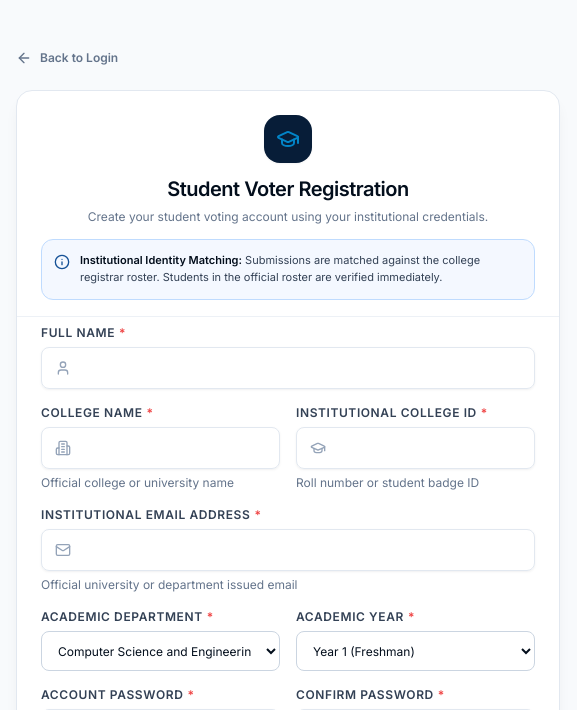
Scenario: Student Self-Service Registration Workflows › safely handles unexpected HTML or server error without rendering raw HTML
Type "Rohan Sharma" into the field labelled "Full Name*" at (288, 368), box [41,347,535,389]
Type "GMR Institute of Technology" into the field labelled "College Name*" at (160, 448), box [41,427,280,469]
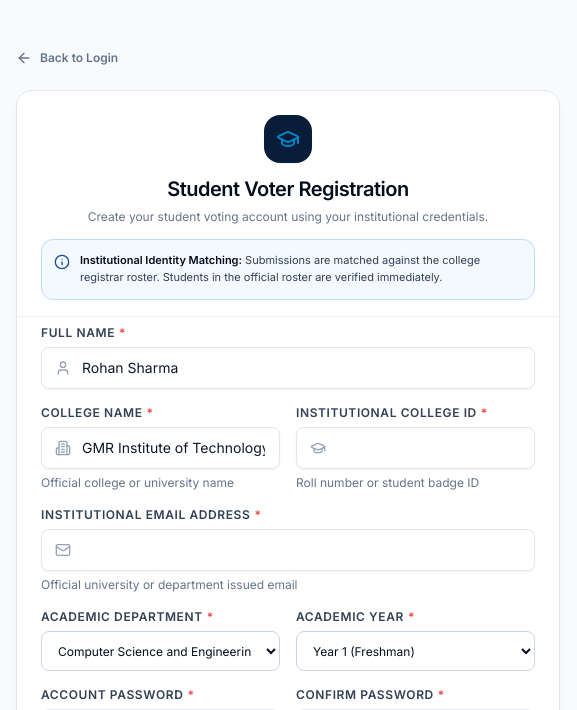
Type "23341A4234" into the field labelled "Institutional College ID*" at (416, 448), box [296,427,535,469]
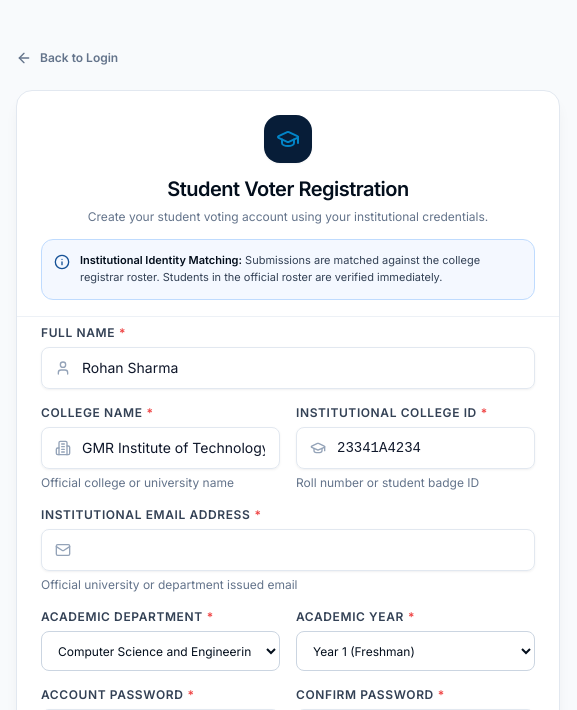
Type "rohan@gmrit.edu.in" into the field labelled "Institutional Email Address*" at (288, 550), box [41,529,535,571]
(page scrolled)
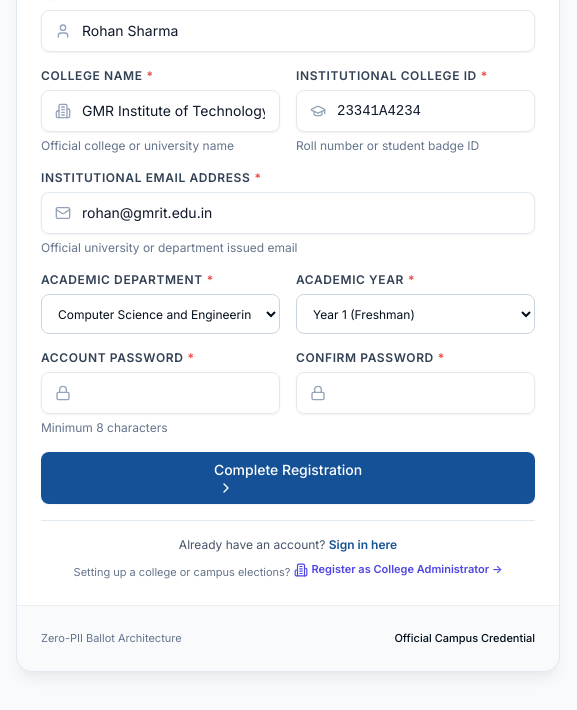
Type "SecurePass123!" into the password field labelled "Account Password*" at (160, 393), box [41,372,280,414]
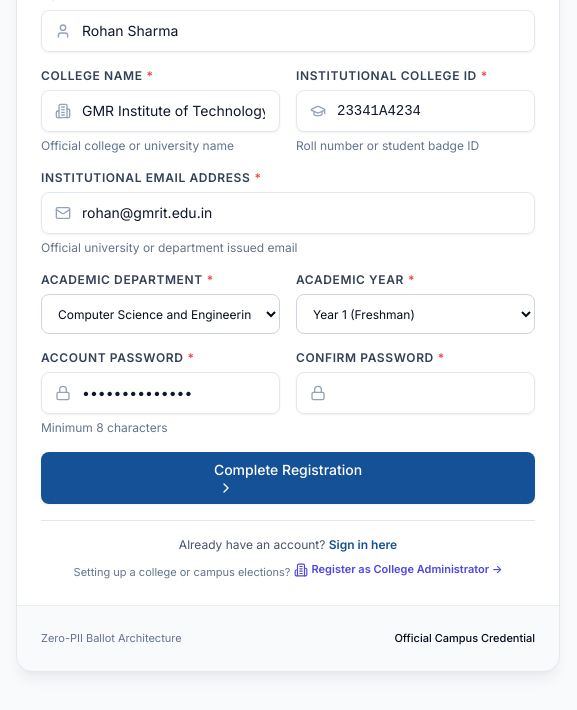
Type "SecurePass123!" into the password field labelled "Confirm Password*" at (416, 393), box [296,372,535,414]
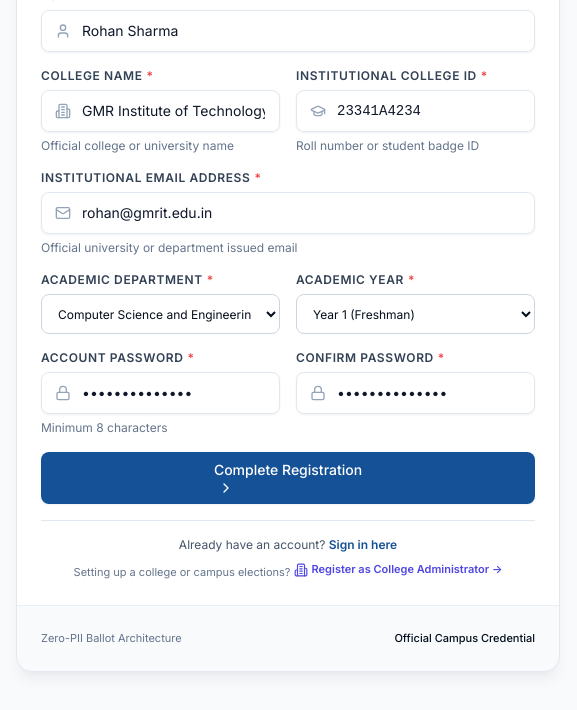
Click the button "Complete Registration" at (288, 478), box [41,452,535,504]
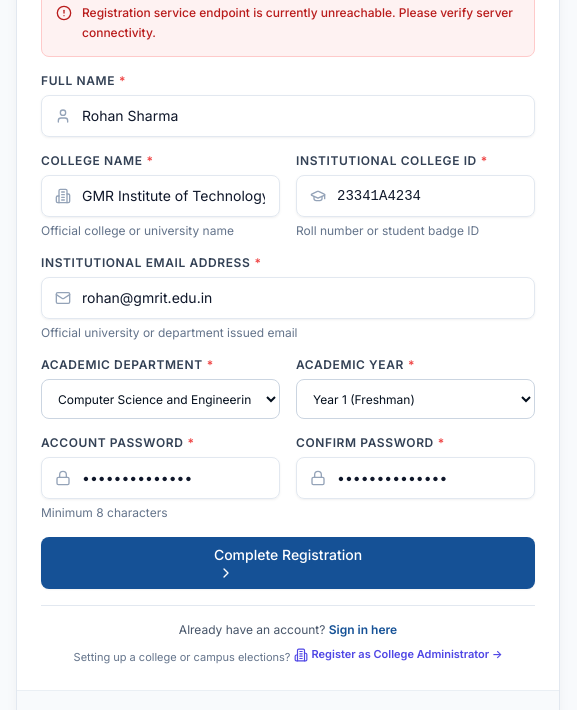
Now the text "Registration service endpoint is currently unreachable" is shown, box [82,5,513,40]
